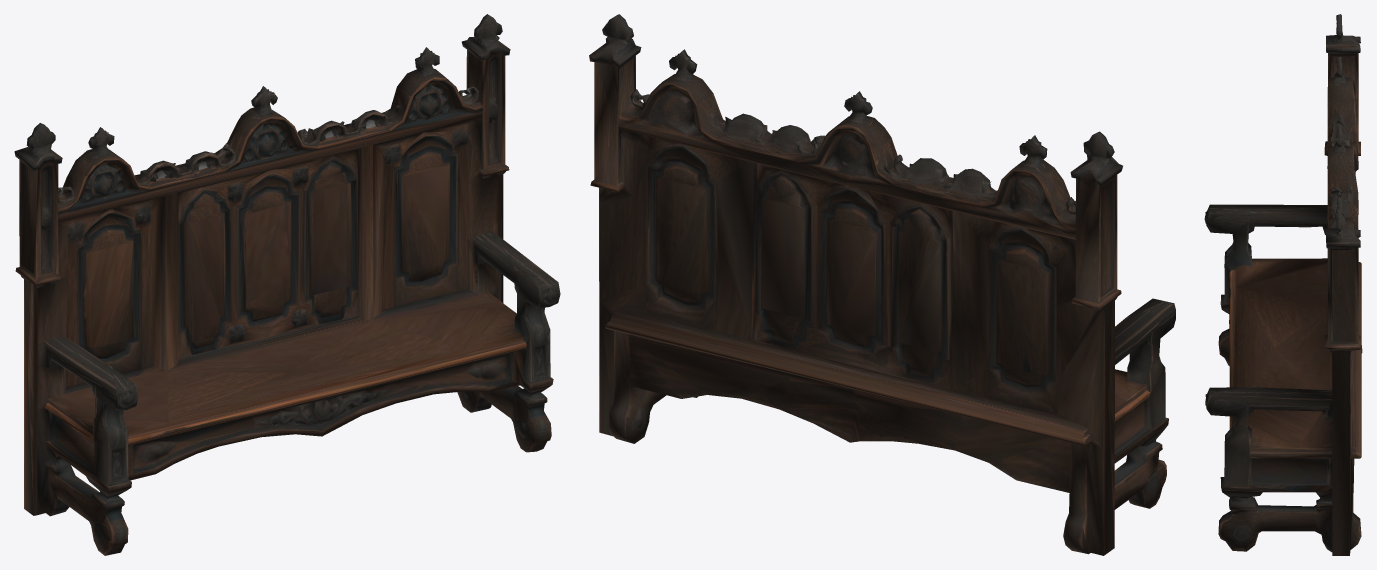
File: bench.glb
The picture shows the model from 3 angles, left to right: view 1: azimuth 30°, elevation 25°; view 2: azimuth 150°, elevation 25°; view 3: azimuth 270°, elevation 25°; orthographic projection. The views are drawn at different scales.
Visible parts, largest first — view 1: body; view 2: body; view 3: body.
Part boxes in pixels (left/top/right/bottom): body: left=14, top=14, right=560, bottom=555; body: left=589, top=14, right=1175, bottom=555; body: left=1204, top=14, right=1362, bottom=555.
Size of the model in its own units: 1.4 by 1.1 by 0.4539.
1 material, 1 textured.
